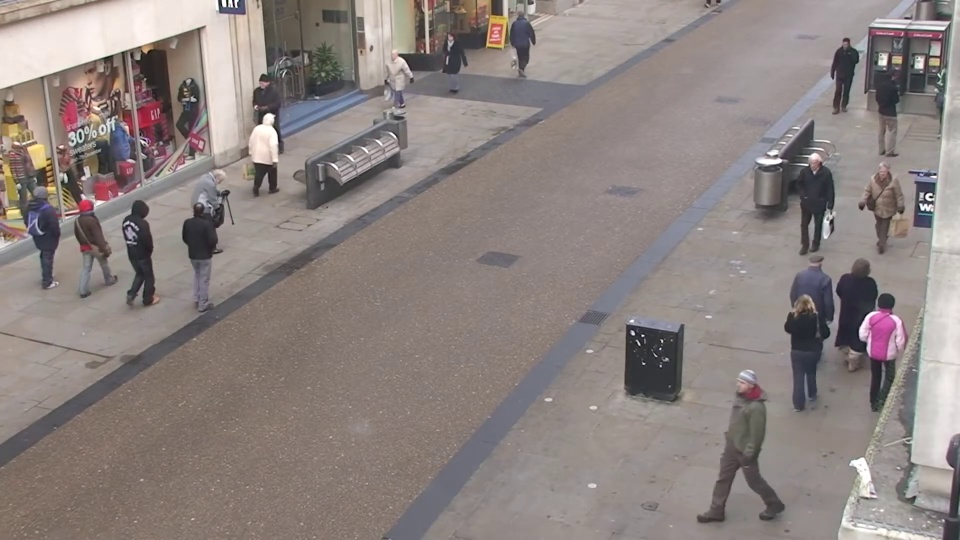pedestrian: (698, 364, 754, 524), (856, 280, 913, 421), (779, 284, 831, 424), (831, 251, 883, 383), (794, 243, 843, 373), (26, 178, 79, 288), (74, 190, 125, 302), (125, 191, 173, 304), (185, 194, 231, 309), (855, 161, 901, 271), (202, 163, 243, 269), (788, 155, 828, 261), (867, 66, 906, 152), (260, 106, 294, 198), (245, 73, 277, 156), (825, 38, 857, 116), (379, 46, 407, 122), (436, 31, 462, 103), (513, 7, 536, 72)
